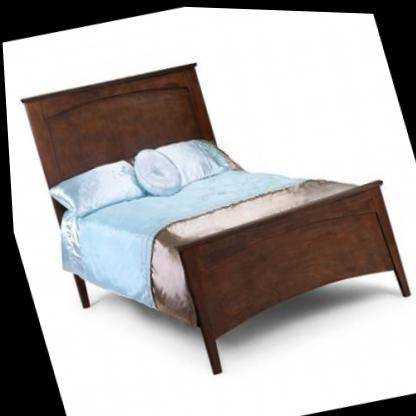Bed: (16, 22, 416, 404)
